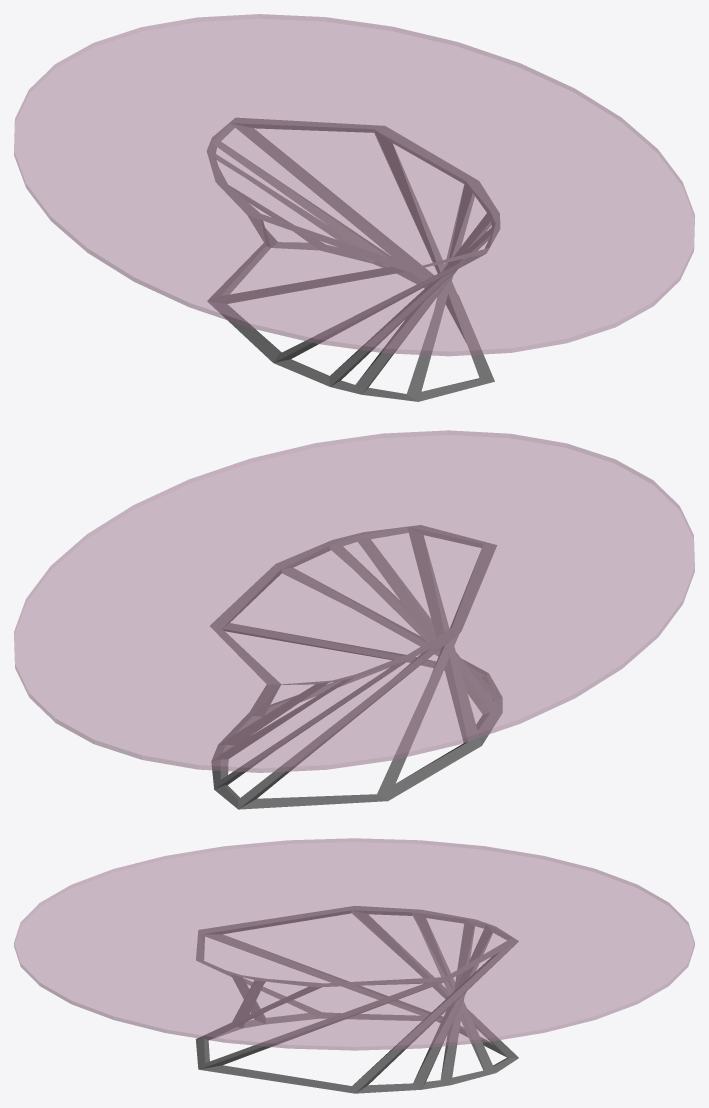
Rendered from 3629e540-92f1-4cd9-affe-39c448657a61.glb.
3 renders of one model, top to bottom at view 1: azimuth 30°, elevation 25°; view 2: azimuth 150°, elevation 25°; view 3: azimuth 270°, elevation 25°, orthographic. The views are drawn at different scales.
Visible parts, largest first — view 1: Indoor Glass Table.001; view 2: Indoor Glass Table.001; view 3: Indoor Glass Table.001.
Boxes of the visible parts, bbox=[...] form: Indoor Glass Table.001: bbox=[14, 14, 694, 401]; Indoor Glass Table.001: bbox=[14, 430, 694, 809]; Indoor Glass Table.001: bbox=[14, 838, 694, 1093].
Size of what is drawn, in the model's own units: 1.92 by 0.4731 by 2.65.
Materials: 2 (1 with a texture image).
